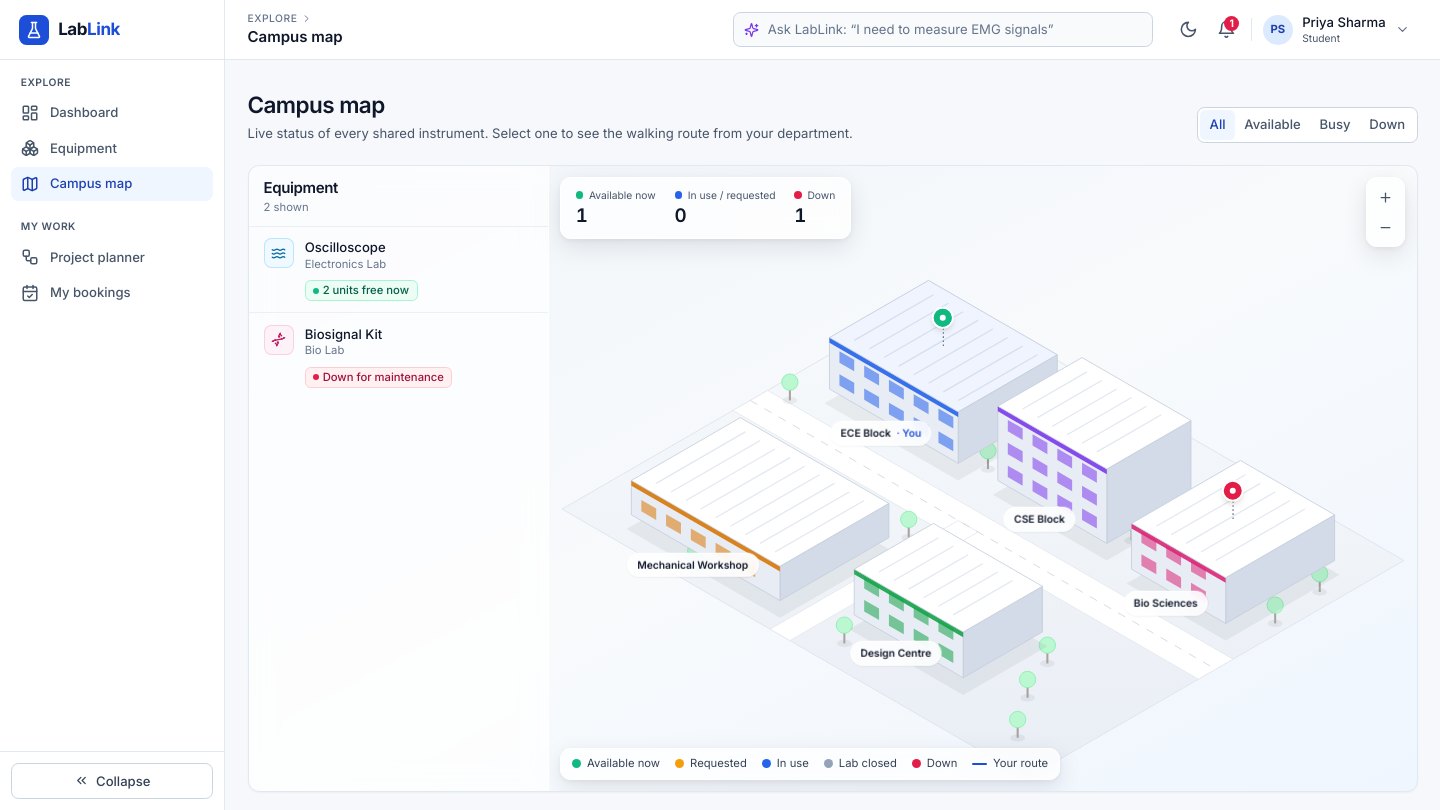
Test: campus map › opens a building panel listing its equipment
Later steps or results of the test are not shown.
Click the button "ECE Block· You".
click(881, 433)  # box left=830, top=421, right=932, bottom=446
(page scrolled)
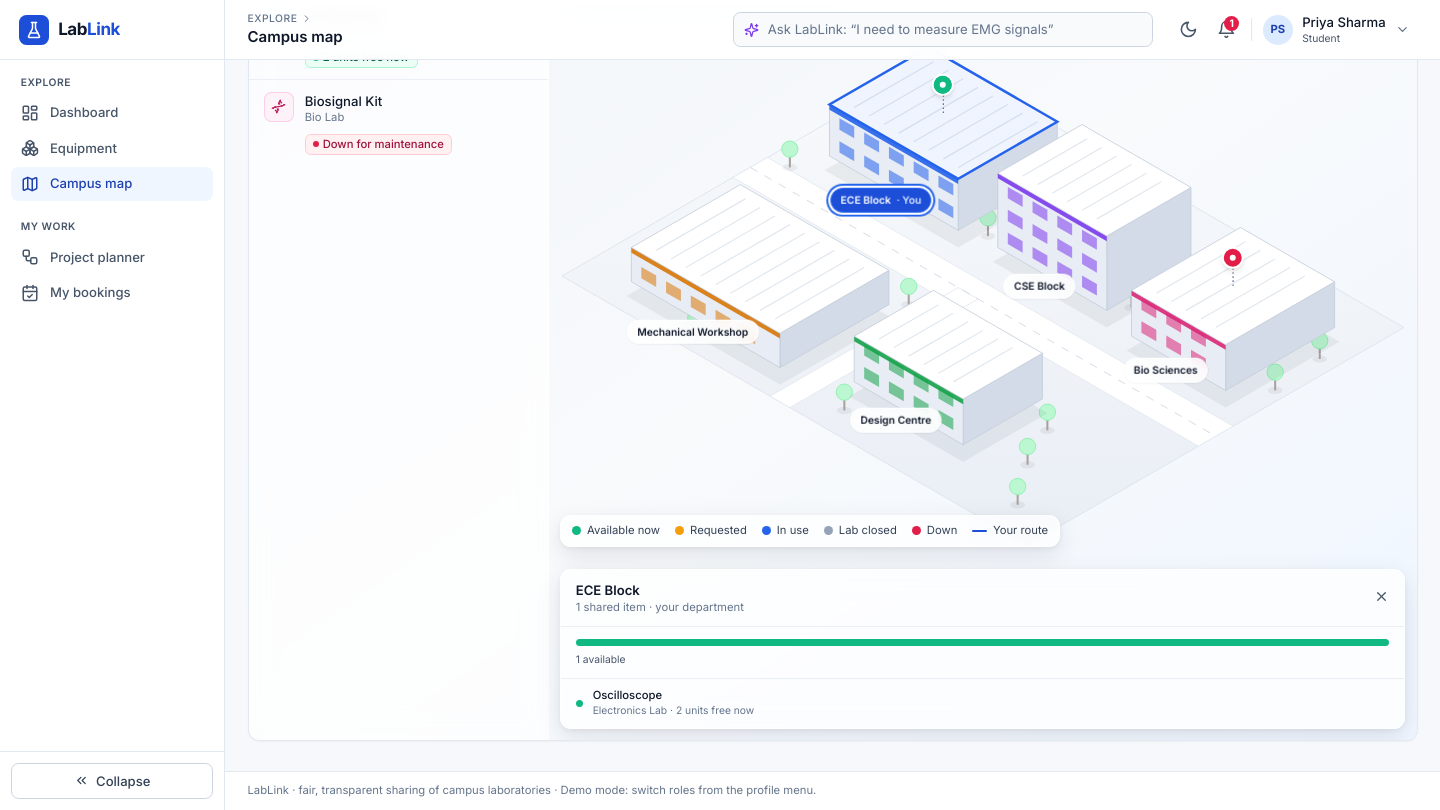
Result: the button "Oscilloscope Electronics Lab · 2 units free now" is shown at left=561, top=679, right=1404, bottom=728
